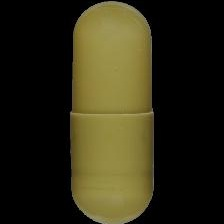21695-145: (0, 0, 224, 224)
